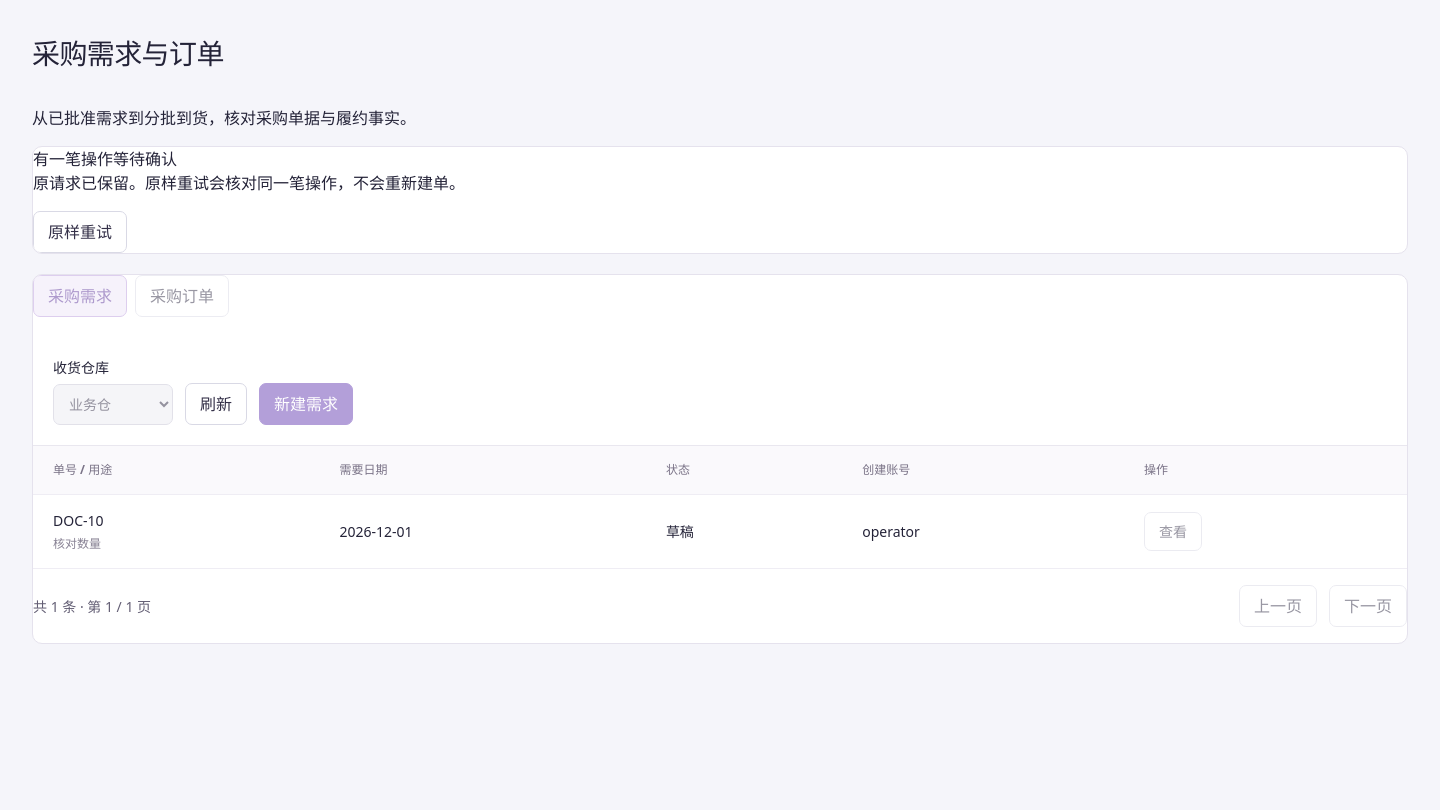
it: purchasing document recovery › locks recovery if a rejected request cannot be removed from storage
Step 1. Click the button "原样重试" → click(80, 232), box top-left (33, 211), bottom-right (127, 253)
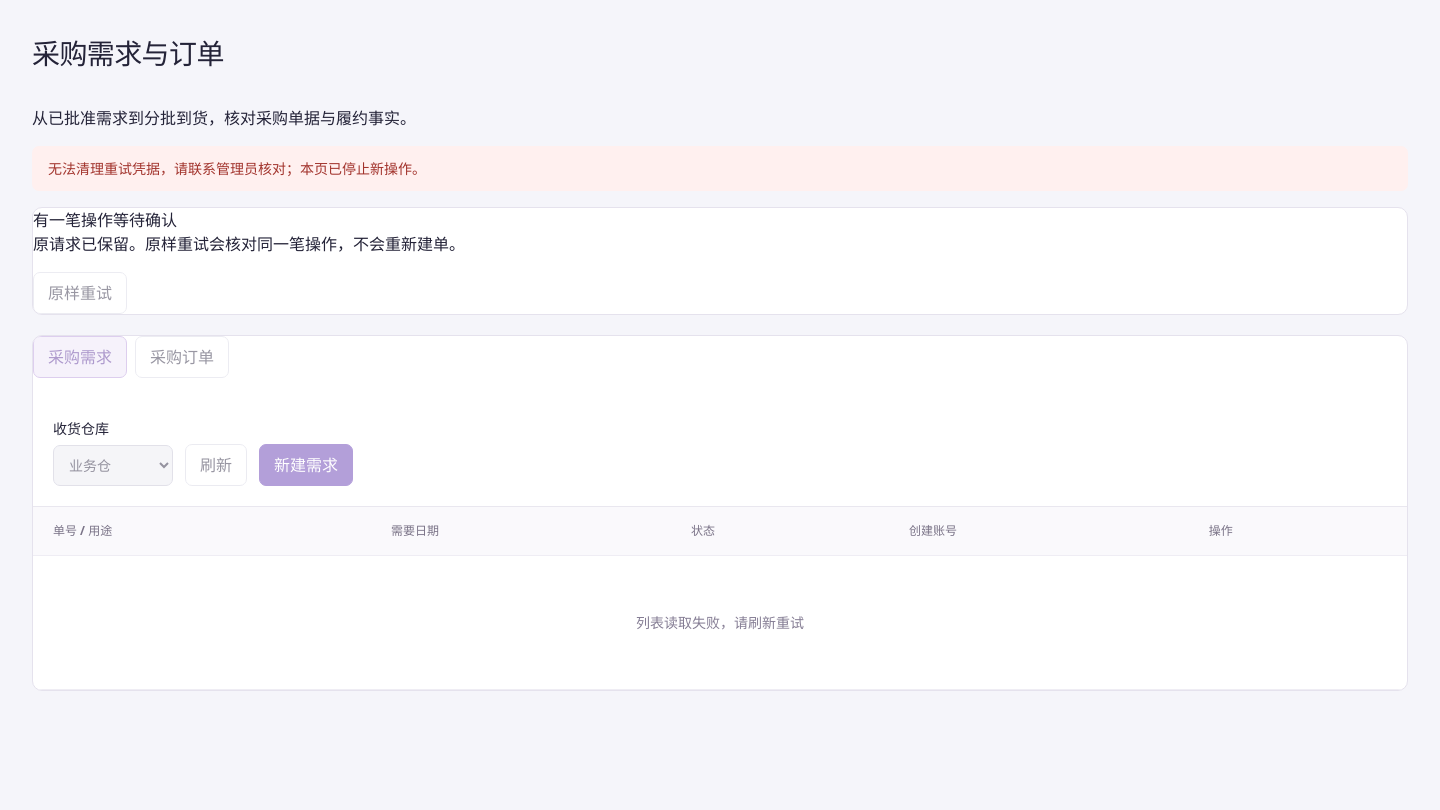
Expected: the text "无法清理重试凭据" is shown, top-left (48, 159), bottom-right (426, 178)
Expected: the button "原样重试" is disabled, top-left (33, 272), bottom-right (127, 314)
Expected: the button "刷新" is disabled, top-left (185, 444), bottom-right (247, 486)
